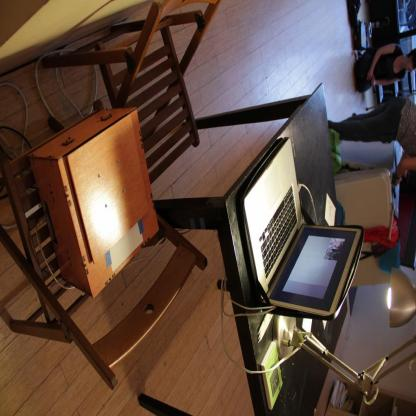board: (230, 135, 370, 350)
